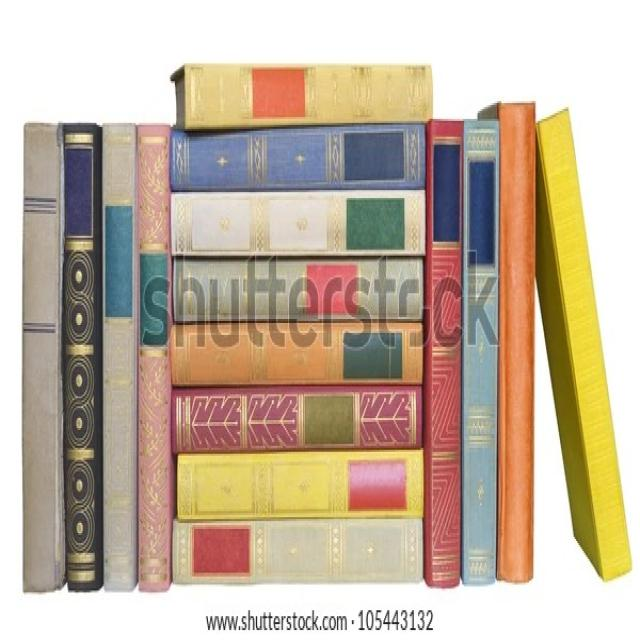book: (539, 108, 631, 583), (496, 102, 536, 588), (62, 128, 102, 598), (176, 446, 417, 519), (24, 124, 62, 584), (425, 124, 461, 592), (172, 385, 416, 453), (176, 517, 418, 585), (184, 64, 434, 128), (463, 124, 497, 592), (174, 191, 422, 255), (174, 124, 423, 186), (138, 134, 171, 596), (174, 259, 422, 320), (104, 127, 136, 595), (173, 323, 421, 382), (249, 67, 307, 120)
